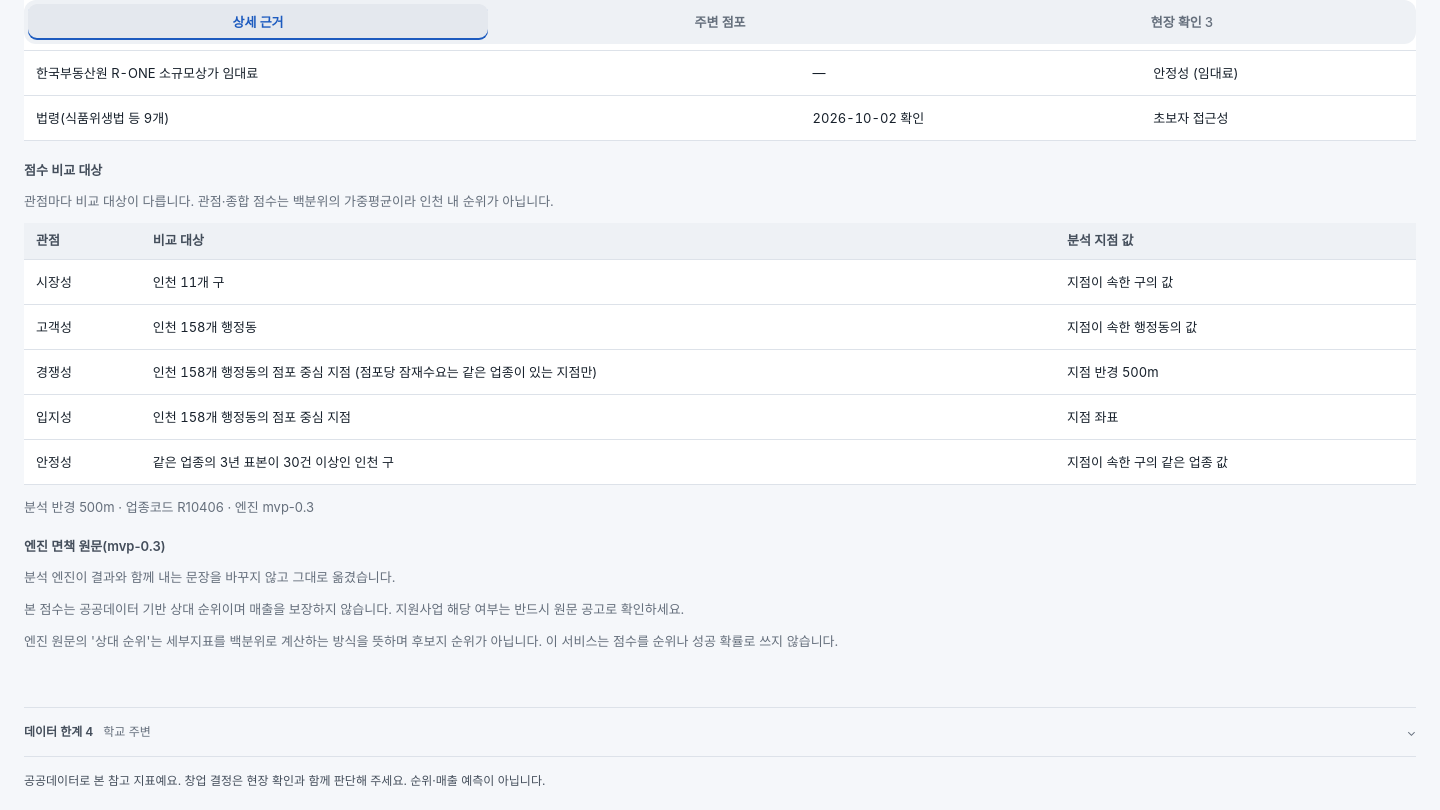
AnalysisResult — 헤드라인·주의 요약 띠 (8-C1a) › 대시보드 순서(R1): 제목 → 종합 점수 → 한 줄 결론 → 다섯 관점 → 탭 → 접힌 데이터 한계(부평역 PC방: 학교 0곳 1줄)
The width and height of the screenshot is (1440, 810).
(page scrolled)
Click the heading "데이터 한계 4 학교 주변 ⌄".
click(53, 731)  # box [24,724,1416,739]
(page scrolled)
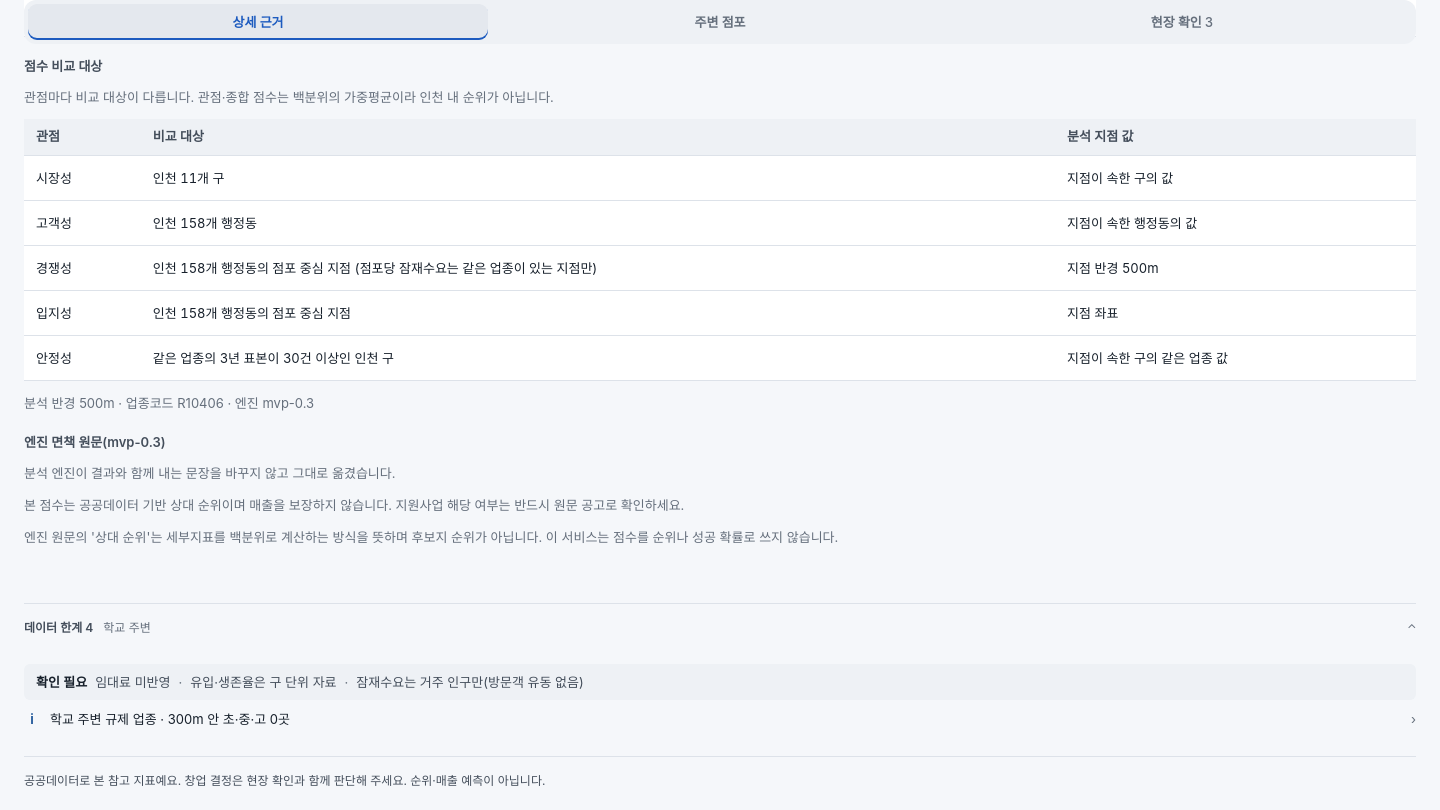
Expected: the number of links is 1, [30,710,1416,726]
